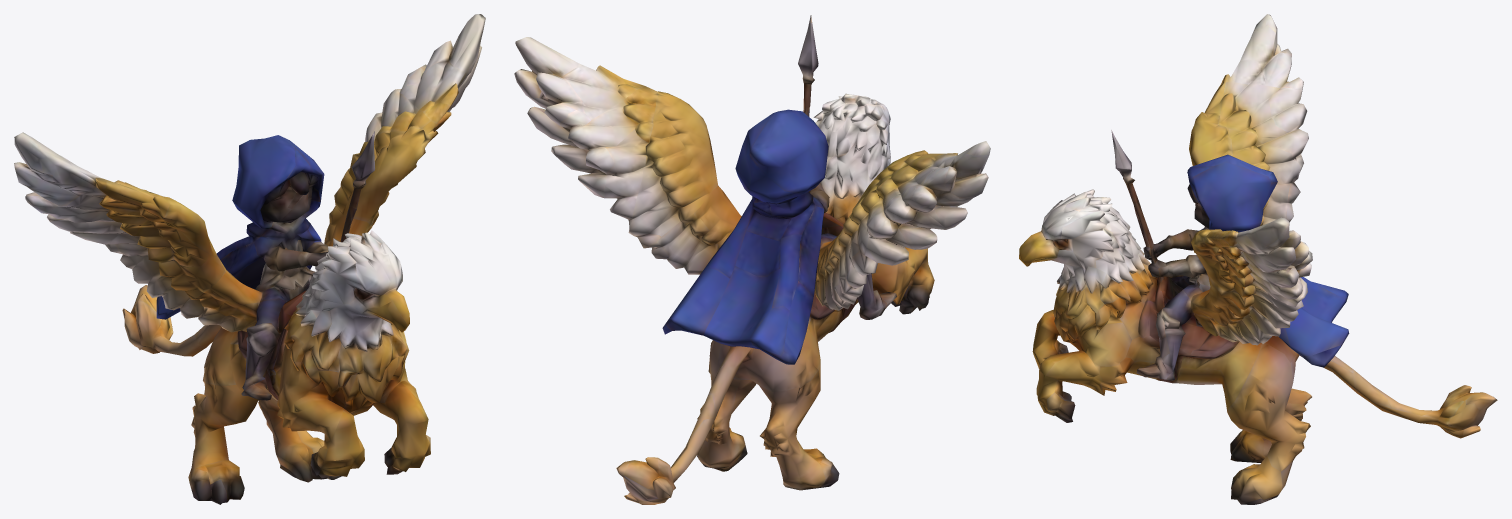
Rendered from griffin-low.glb.
3 renders of one model, left to right at view 1: azimuth 30°, elevation 25°; view 2: azimuth 150°, elevation 25°; view 3: azimuth 270°, elevation 25°, orthographic. The views are drawn at different scales.
Visible parts, largest first — view 1: tripo_node_865e50cb-8896-4b9f-84d9-0e21fff076d1; view 2: tripo_node_865e50cb-8896-4b9f-84d9-0e21fff076d1; view 3: tripo_node_865e50cb-8896-4b9f-84d9-0e21fff076d1.
Boxes of the visible parts, x1,y1,x2,y2 form: tripo_node_865e50cb-8896-4b9f-84d9-0e21fff076d1: (14,14,485,504); tripo_node_865e50cb-8896-4b9f-84d9-0e21fff076d1: (514,15,990,504); tripo_node_865e50cb-8896-4b9f-84d9-0e21fff076d1: (1019,14,1497,504).
Bounding box in the file's own units: 0.9987 × 0.8042 × 0.9645.
1 material, 1 textured.
